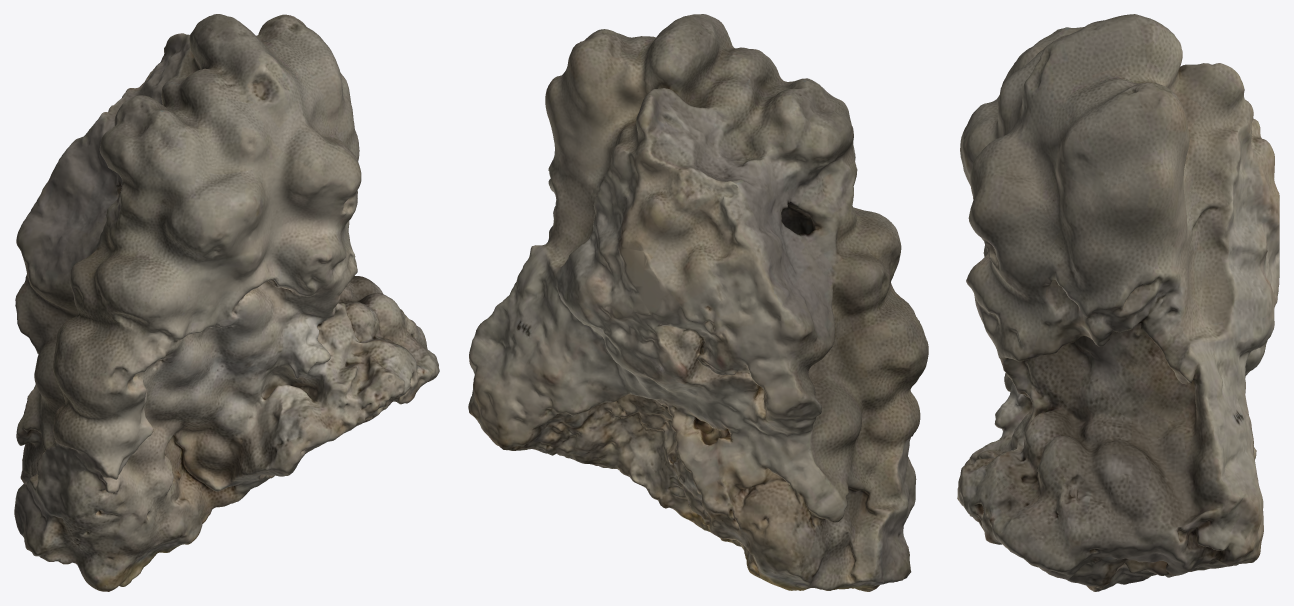
File: porites-lobata.glb
The picture shows the model from 3 angles, left to right: view 1: azimuth 30°, elevation 25°; view 2: azimuth 150°, elevation 25°; view 3: azimuth 270°, elevation 25°; orthographic projection. The views are drawn at different scales.
Bounding box in the file's own units: 0.159 × 0.2044 × 0.0952.
Materials: 1 (1 with a texture image).
